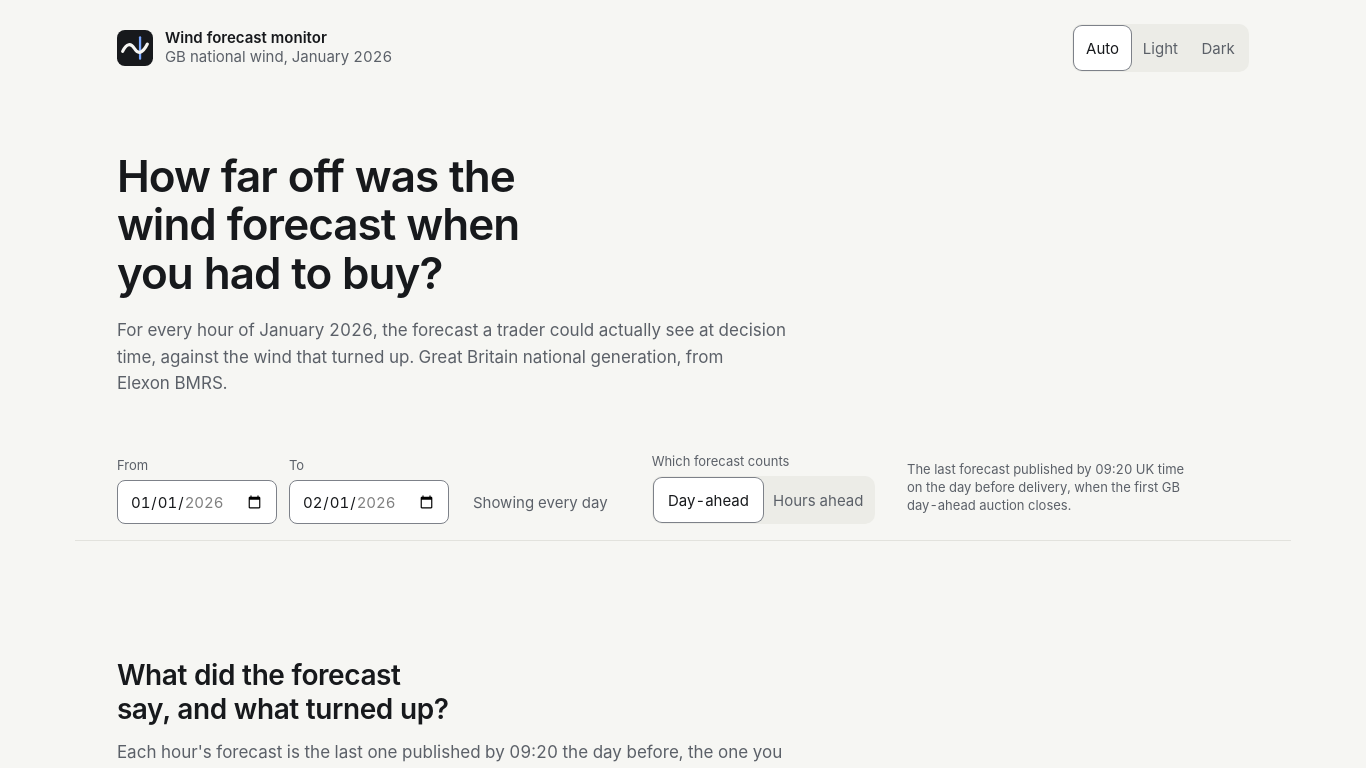
Test case: switching to hours ahead shows the slider, refetches, and updates the link
What coordinates should you click on to do the following:
click the radio button labelled "Hours ahead"
I would click on:
 (818, 500)
Its box is [773,491,863,510].
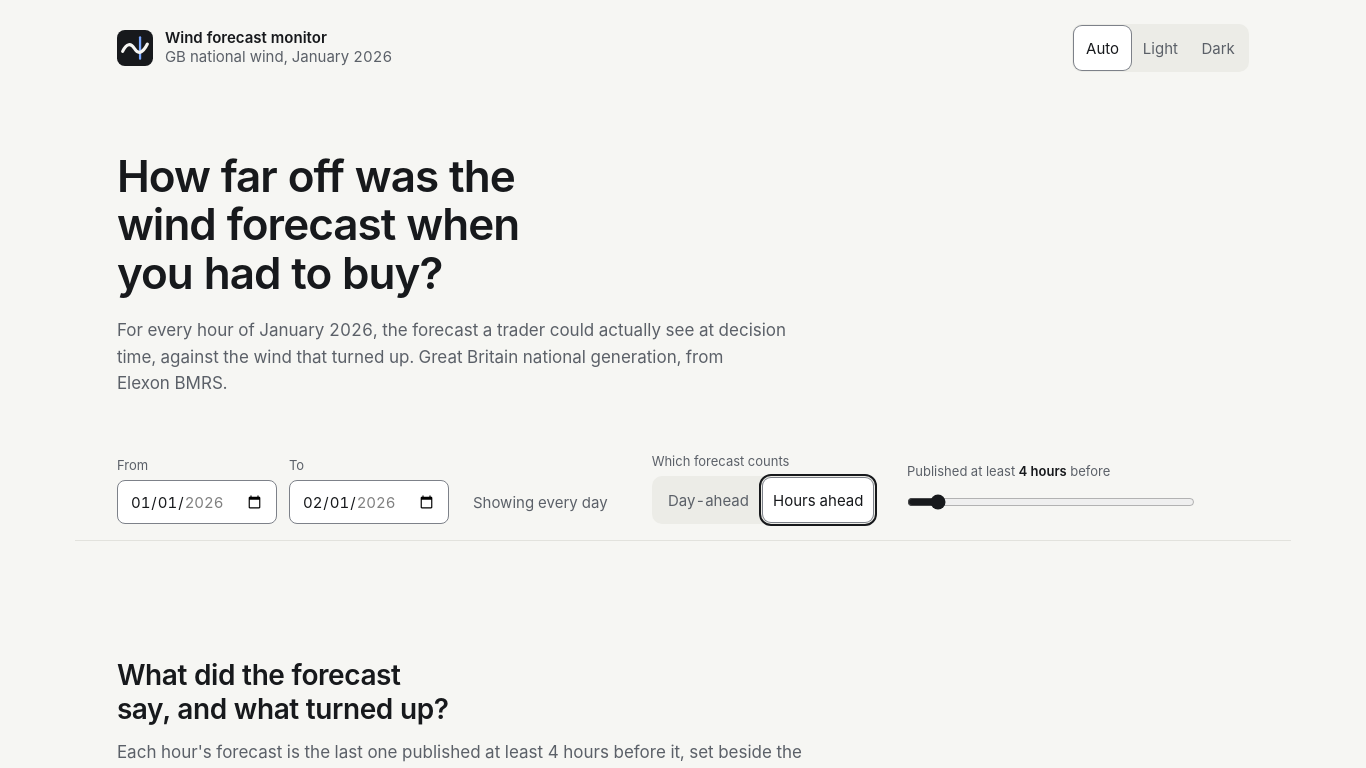
Expected: the slider labelled "Published at least 4 hours before" holds "4", [907,480,1195,524]
